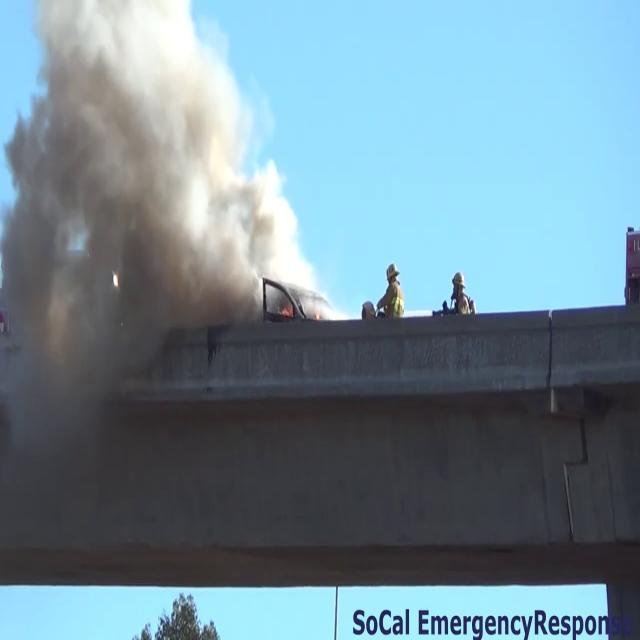Smoke: (0, 0, 313, 412)
